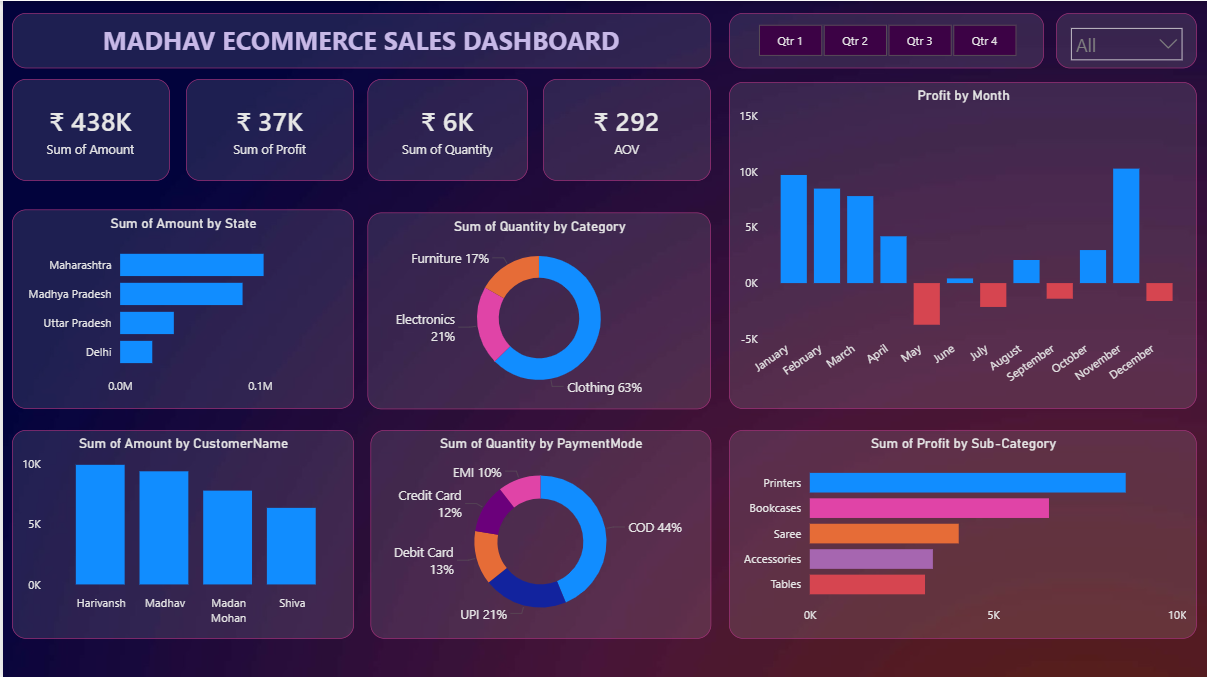

The page's visual inventory and layout, read from the dashboard file:
{"tool":"powerbi","page":{"name":"Page 1","canvas":[1280,720],"ordinal":0},"visuals":[{"type":"textbox","box":[9.5,12.7,741.2,58.9],"z":0},{"type":"columnChart","title":"Profit by Month","fields":{"Category":["Orders.Order Date.Variation.Date Hierarchy.Month"],"Y":["Sum(Details.Profit)"]},"box":[769.9,85.9,496.3,346.8],"z":1000},{"type":"barChart","fields":{"Category":["Orders.State"],"Y":["Sum(Details.Amount)"]},"box":[9.5,221.1,362.7,211.6],"z":2000},{"type":"donutChart","fields":{"Y":["Sum(Details.Quantity)"],"Category":["Details.PaymentMode"]},"box":[389.7,454.9,361.1,221.1],"z":3000},{"type":"donutChart","fields":{"Category":["Details.Category"],"Y":["Sum(Details.Quantity)"]},"box":[386.5,224.3,364.2,208.4],"z":4000},{"type":"cardVisual","fields":{"Data":["Sum(Details.Amount)"]},"box":[9.5,82.7,167,108.2],"z":5000},{"type":"cardVisual","fields":{"Data":["Sum(Details.Quantity)"]},"box":[386.5,82.7,170.2,108.2],"z":6000},{"type":"cardVisual","fields":{"Data":["Sum(Details.Profit)"]},"box":[194.1,82.7,178.1,108.2],"z":7000},{"type":"cardVisual","fields":{"Data":["Sum(Details.AOV)"]},"box":[572.6,82.7,178.1,108.2],"z":8000},{"type":"barChart","fields":{"Category":["Details.Sub-Category"],"Y":["Sum(Details.Profit)"]},"box":[769.9,454.9,496.3,221.1],"z":9000},{"type":"columnChart","fields":{"Category":["Orders.CustomerName"],"Y":["Sum(Details.Amount)"]},"box":[9.5,454.9,362.7,221.1],"z":10000},{"type":"slicer","fields":{"Values":["Orders.Order Date.Variation.Date Hierarchy.Quarter"]},"box":[769.9,12.7,334,58.9],"z":11000},{"type":"slicer","fields":{"Values":["Orders.State"]},"box":[1116.6,12.7,149.5,58.9],"z":12000}]}

Visuals, with their boxes in screenshot pixels (x1, y1, x2, y2), scaled from the page's 1280x720 canvas onto the 1207x677 screenshot:
textbox: select_region(9, 12, 708, 67)
"Profit by Month" columnChart: select_region(726, 81, 1194, 407)
barChart - Orders.State x Sum(Details.Amount): select_region(9, 208, 351, 407)
donutChart - Sum(Details.Quantity) x Details.PaymentMode: select_region(367, 428, 708, 636)
donutChart - Details.Category x Sum(Details.Quantity): select_region(364, 211, 708, 407)
cardVisual - Sum(Details.Amount): select_region(9, 78, 166, 179)
cardVisual - Sum(Details.Quantity): select_region(364, 78, 525, 179)
cardVisual - Sum(Details.Profit): select_region(183, 78, 351, 179)
cardVisual - Sum(Details.AOV): select_region(540, 78, 708, 179)
barChart - Details.Sub-Category x Sum(Details.Profit): select_region(726, 428, 1194, 636)
columnChart - Orders.CustomerName x Sum(Details.Amount): select_region(9, 428, 351, 636)
slicer - Orders.Order Date.Variation.Date Hierarchy.Quarter: select_region(726, 12, 1041, 67)
slicer - Orders.State: select_region(1053, 12, 1194, 67)
